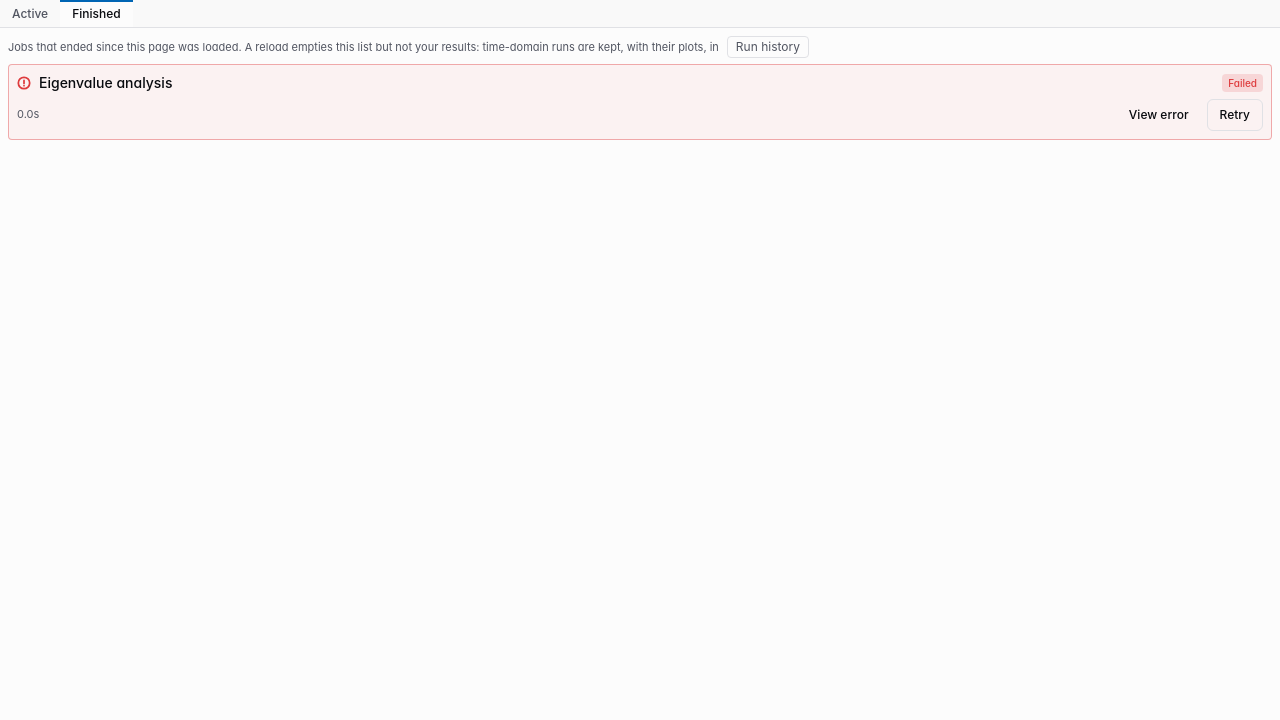
Test: <ActivityPanel /> › View error opens the modal with the captured problem
Step 1. Click the button with test id "activity-row-view-error-jf2" → (1159,115), box [1117, 99, 1200, 131]
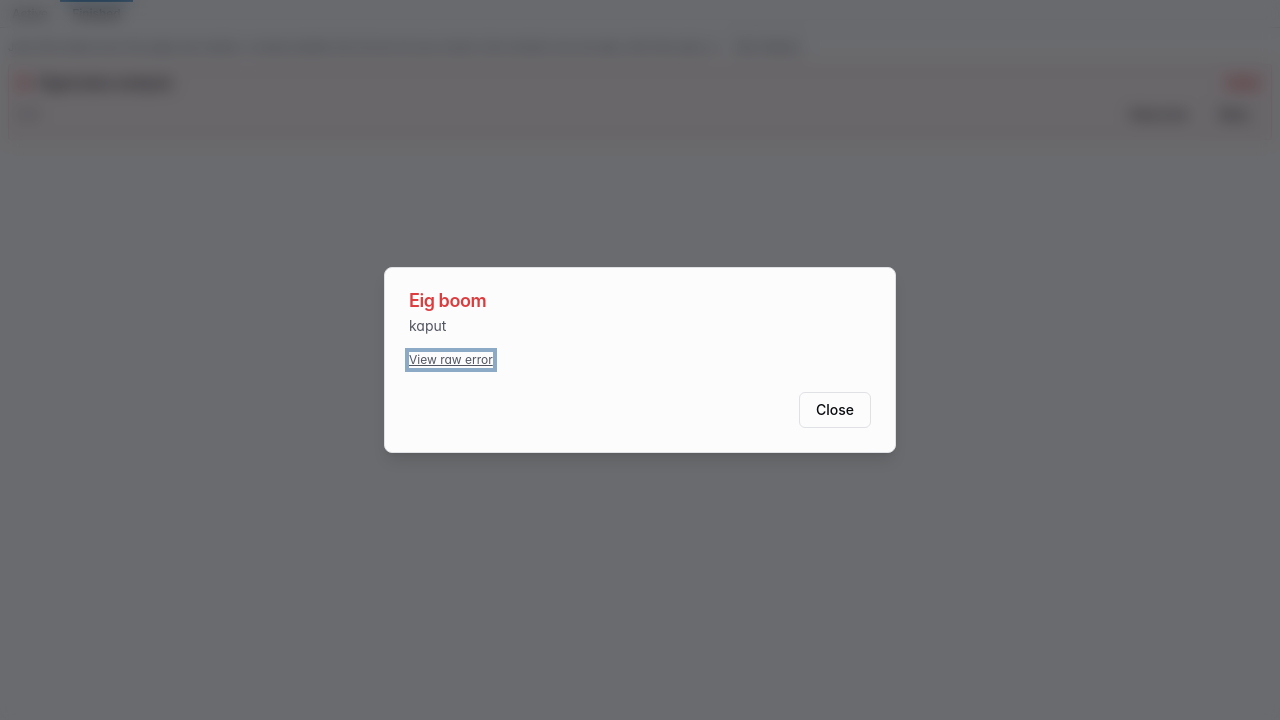
Expected: the dialog with test id "activity-error-modal" is shown, [384, 267, 896, 453]
Expected: the heading "Eig boom" is shown, [409, 290, 486, 311]
